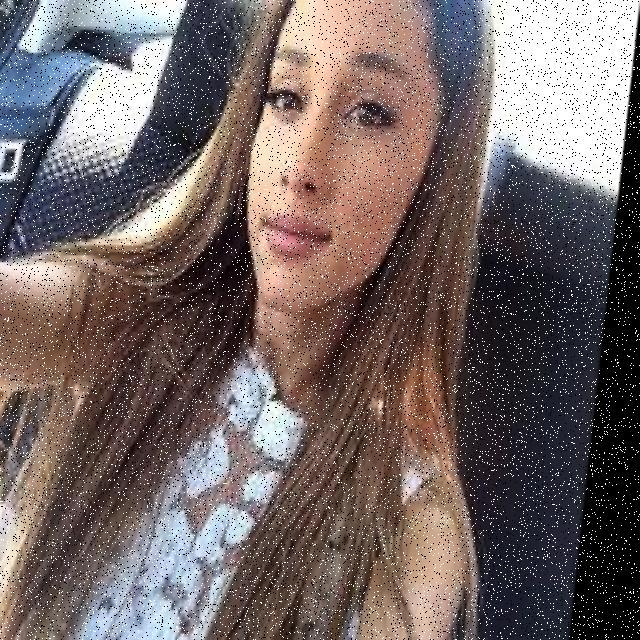noSeatbelt: (8, 228, 480, 640)
